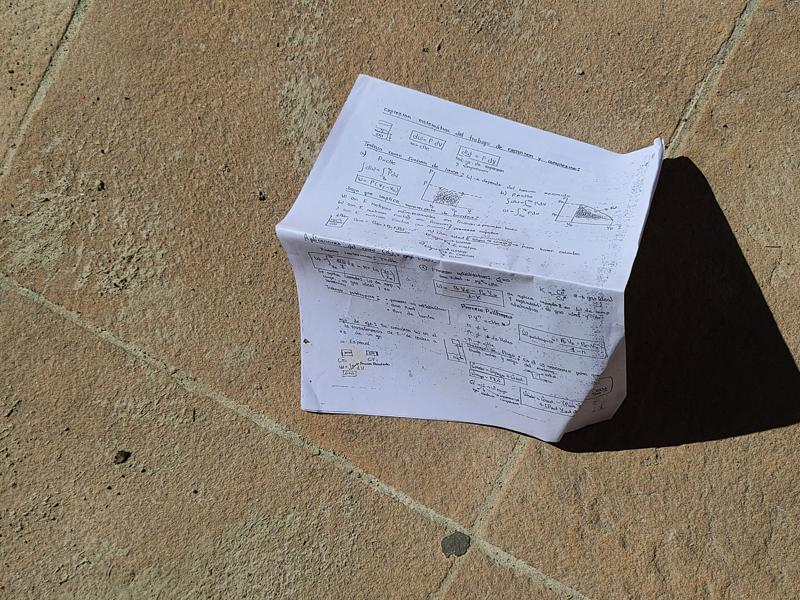papel: (273, 75, 665, 446)
